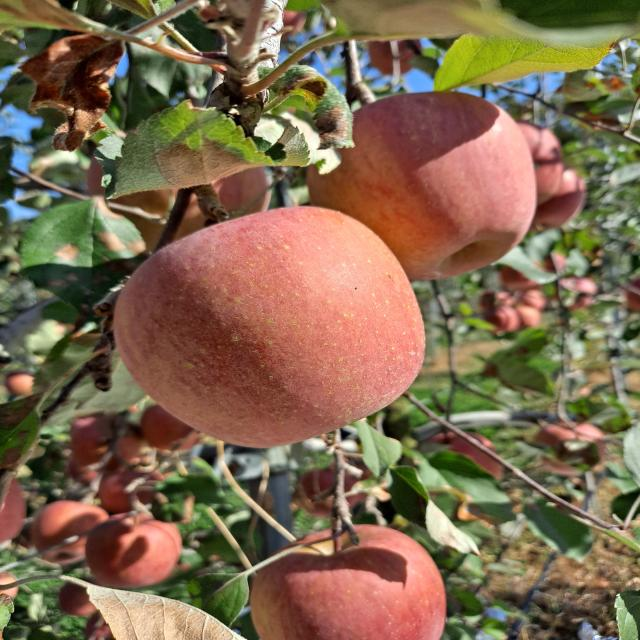fresh: (102, 195, 436, 454)
